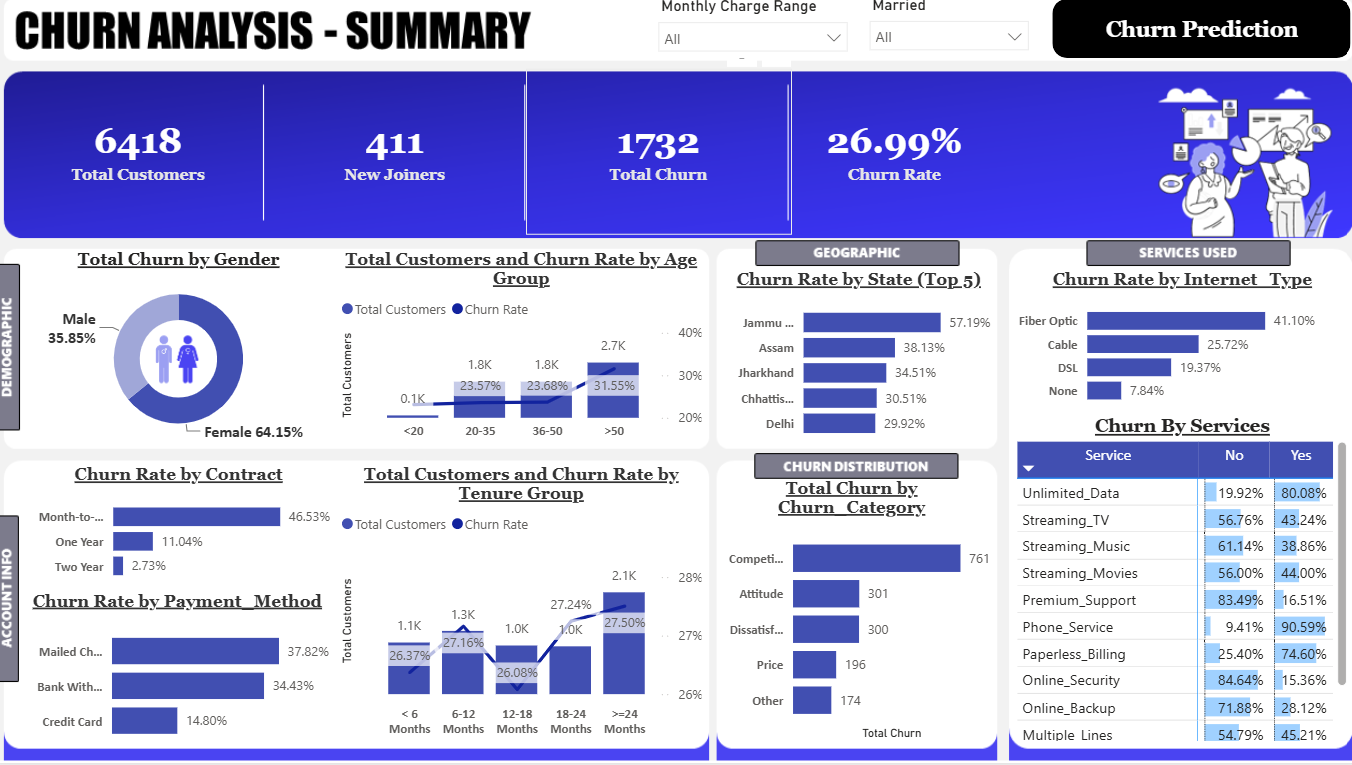

The dashboard page shown, as its layout file describes it:
{"tool":"powerbi","page":{"name":"Summary","canvas":[1280,720],"ordinal":0},"visuals":[{"type":"image","box":[137.4,314.1,72.4,57.7],"z":0},{"type":"cardVisual","fields":{"Data":["Tbl_measures.Total Customers"]},"box":[19.6,73.6,234.4,154.6],"z":1000},{"type":"donutChart","fields":{"Y":["Tbl_measures.Total Churn"],"Category":["clean_stg.Gender"]},"box":[28.2,241.7,293.3,185.3],"z":2000},{"type":"lineClusteredColumnComboChart","fields":{"Category":["mapping_ageGrp.Age Group"],"Y":["Tbl_measures.Total Customers"],"Y2":["Tbl_measures.Churn Rate"]},"box":[321.5,241.7,344.8,185.3],"z":3000},{"type":"clusteredBarChart","fields":{"Y":["Tbl_measures.Churn Rate"],"Category":["clean_stg.Payment_Method"]},"box":[27,559.5,293.3,152.1],"z":4000},{"type":"clusteredBarChart","fields":{"Category":["clean_stg.Contract"],"Y":["Tbl_measures.Churn Rate"]},"box":[28.2,441.7,293.3,117.8],"z":5000},{"type":"lineStackedColumnComboChart","fields":{"Category":["mapping_tenure.Tenure Group"],"Y":["Tbl_measures.Total Customers"],"Y2":["Tbl_measures.Churn Rate"]},"box":[321.5,441.7,344.8,261.4],"z":6000},{"type":"cardVisual","fields":{"Data":["Tbl_measures.Total Churn"]},"box":[498.2,73.6,246.6,154.6],"z":7000},{"type":"cardVisual","fields":{"Data":["Tbl_measures.New Joiners"]},"box":[254,73.6,244.2,154.6],"z":8000},{"type":"cardVisual","fields":{"Data":["Tbl_measures.Churn Rate"]},"box":[744.8,73.6,190.2,154.6],"z":9000},{"type":"clusteredBarChart","title":"Churn Rate by State (Top 5)","fields":{"Y":["Tbl_measures.Churn Rate"],"Category":["clean_stg.State"]},"box":[678.5,260.1,256.4,166.9],"z":10000},{"type":"clusteredBarChart","fields":{"Category":["clean_stg.Churn_Category"],"Y":["Tbl_measures.Total Churn"]},"box":[666.3,455.2,268.7,247.9],"z":11000},{"type":"clusteredBarChart","fields":{"Y":["Tbl_measures.Churn Rate"],"Category":["clean_stg.Internet_Type"]},"box":[949.7,260.1,316.6,135],"z":12000},{"type":"pivotTable","title":"Churn By Services","fields":{"Rows":["prod_service.Services"],"Values":["Sum(prod_service.churn Status)"],"Columns":["prod_service.Status"]},"box":[949.7,395.1,316.6,308],"z":13000},{"type":"slicer","fields":{"Values":["clean_stg.Monthly_charge_status"]},"box":[611,1.2,196.3,62.6],"z":14000},{"type":"slicer","fields":{"Values":["clean_stg.Married"]},"box":[807.4,0,168.1,62.6],"z":15000},{"type":"shape","box":[987.7,8.6,278.5,55.2],"z":15001}]}

Visuals, with their boxes in screenshot pixels (x1, y1, x2, y2), scaled from the page's 1280x720 canvas onto the 1352x765 screenshot:
image: [145,334,222,395]
cardVisual - Tbl_measures.Total Customers: [21,78,268,242]
donutChart - Tbl_measures.Total Churn x clean_stg.Gender: [30,257,340,454]
lineClusteredColumnComboChart - mapping_ageGrp.Age Group x Tbl_measures.Total Customers: [340,257,704,454]
clusteredBarChart - Tbl_measures.Churn Rate x clean_stg.Payment_Method: [29,594,338,756]
clusteredBarChart - clean_stg.Contract x Tbl_measures.Churn Rate: [30,469,340,594]
lineStackedColumnComboChart - mapping_tenure.Tenure Group x Tbl_measures.Total Customers: [340,469,704,747]
cardVisual - Tbl_measures.Total Churn: [526,78,787,242]
cardVisual - Tbl_measures.New Joiners: [268,78,526,242]
cardVisual - Tbl_measures.Churn Rate: [787,78,988,242]
"Churn Rate by State (Top 5)" clusteredBarChart: [717,276,987,454]
clusteredBarChart - clean_stg.Churn_Category x Tbl_measures.Total Churn: [704,484,988,747]
clusteredBarChart - Tbl_measures.Churn Rate x clean_stg.Internet_Type: [1003,276,1338,420]
"Churn By Services" pivotTable: [1003,420,1338,747]
slicer - clean_stg.Monthly_charge_status: [645,1,853,68]
slicer - clean_stg.Married: [853,0,1030,67]
shape: [1043,9,1337,68]
